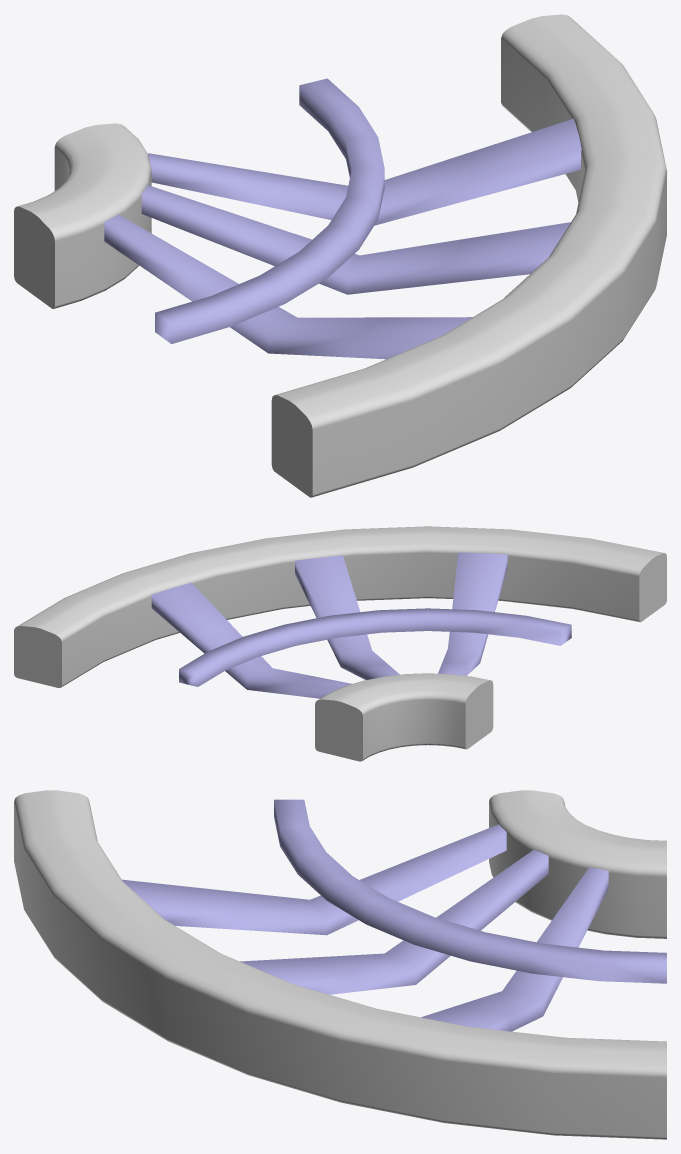
Rendered from New_RailCorner.fbx.
3 views of the same model, one above another, from view 1: azimuth 30°, elevation 25°; view 2: azimuth 150°, elevation 25°; view 3: azimuth 270°, elevation 25° (orthographic). The views are drawn at different scales.
Parts seen in each view (by area): view 1: New_RailCorner; view 2: New_RailCorner; view 3: New_RailCorner.
Part boxes in pixels (<box>): New_RailCorner: <box>14,14,666,497</box>; New_RailCorner: <box>14,526,666,761</box>; New_RailCorner: <box>14,790,666,1139</box>.
Size of the model in its own units: 86.5 by 11 by 86.5.
